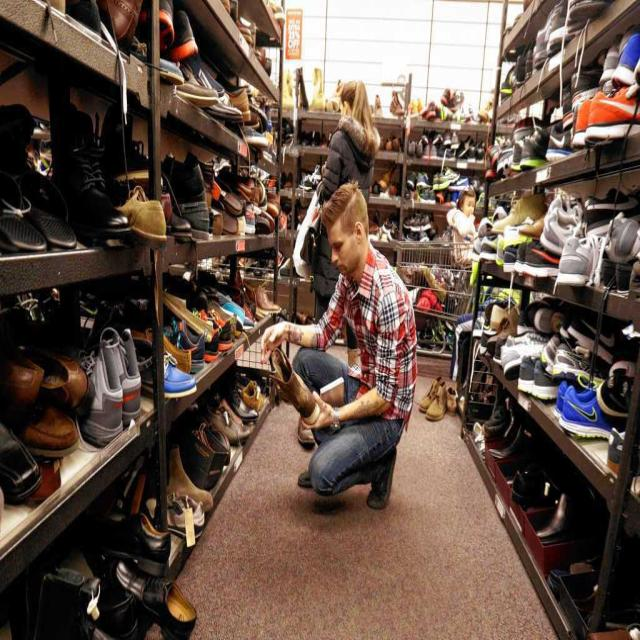body: (258, 174, 420, 514), (290, 78, 383, 371), (445, 186, 479, 265), (448, 308, 475, 389)
